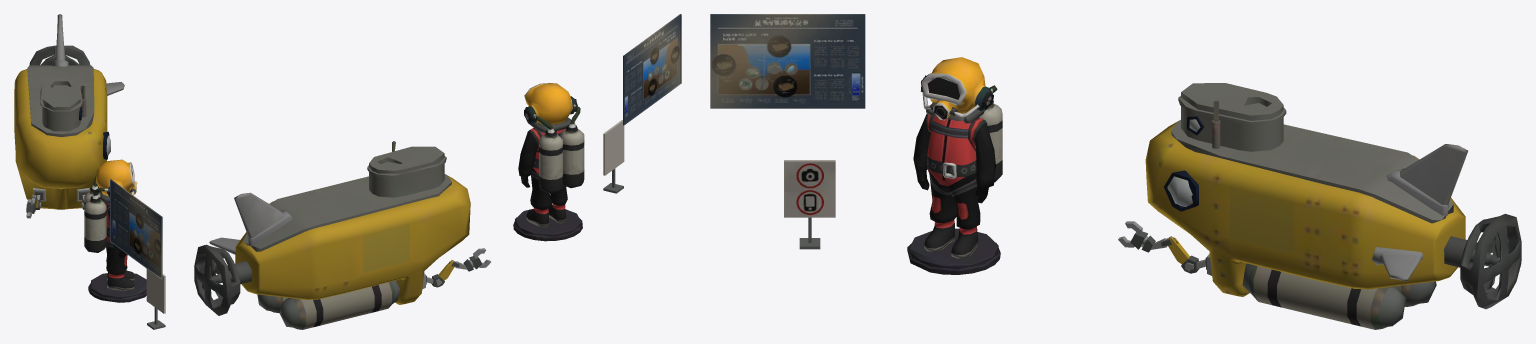
The model's file is diver.glb.
3 views of the same model, side by side, from view 1: azimuth 30°, elevation 25°; view 2: azimuth 150°, elevation 25°; view 3: azimuth 270°, elevation 25° (orthographic). The views are drawn at different scales.
Size of the model in its own units: 32.43 by 22.74 by 78.54.
3 materials, 3 textured.
